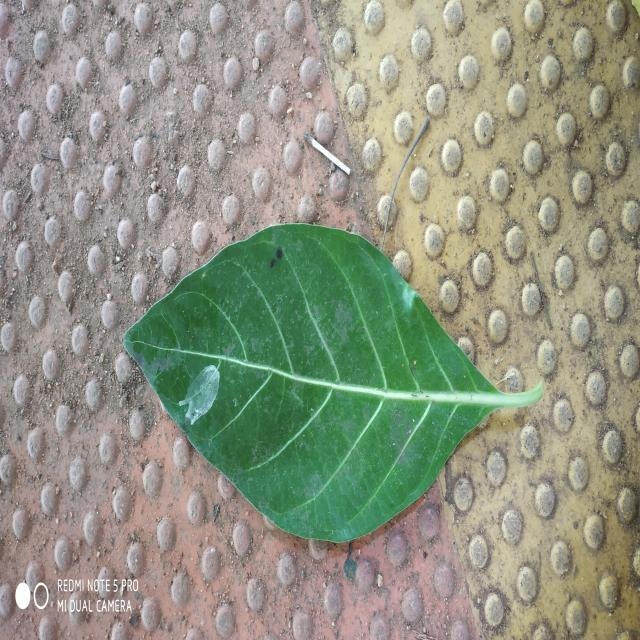leaf: (122, 221, 544, 544)
